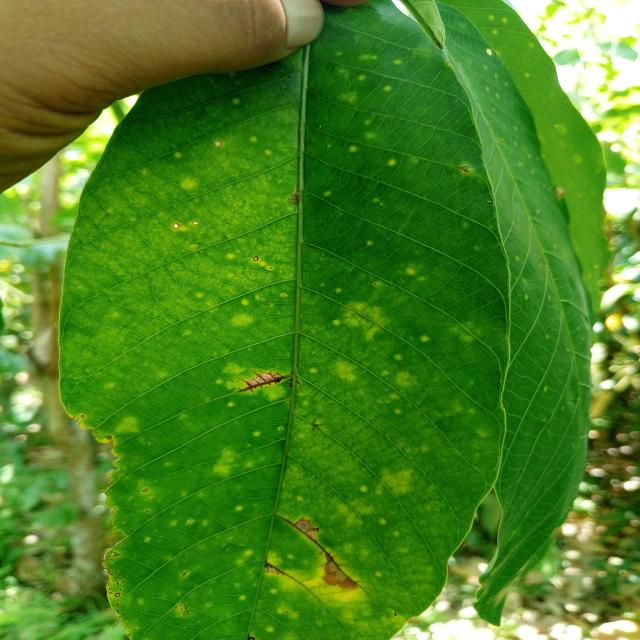Colletotrichum: (214, 142, 222, 147), (173, 223, 180, 228), (462, 166, 469, 171), (253, 256, 259, 260), (142, 488, 148, 492), (115, 593, 120, 597), (193, 222, 198, 225), (81, 414, 84, 418), (109, 592, 113, 594), (122, 580, 124, 583), (116, 583, 119, 585), (185, 606, 187, 609), (270, 267, 272, 269), (194, 245, 196, 247), (262, 299, 264, 300), (282, 295, 284, 296), (120, 589, 122, 590)
Corynespora: (279, 514, 360, 586), (236, 370, 288, 393), (263, 561, 285, 575), (309, 526, 323, 532)
Leaf-Blight: (322, 554, 358, 590), (293, 519, 316, 541)
